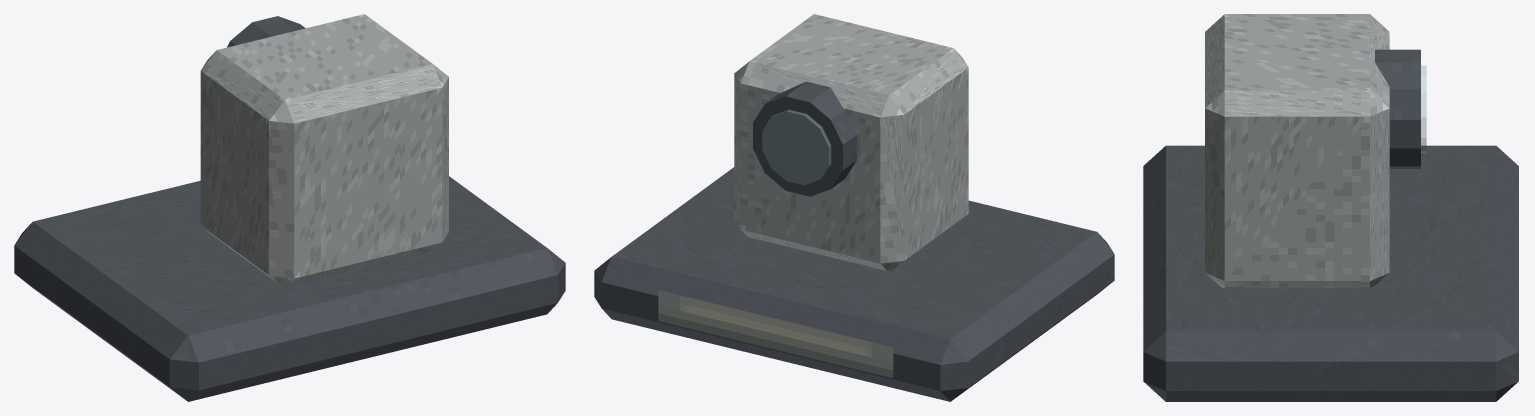
Rendered from melting_point.glb.
3 views of the same model, side by side, from view 1: azimuth 30°, elevation 25°; view 2: azimuth 150°, elevation 25°; view 3: azimuth 270°, elevation 25° (orthographic). The views are drawn at different scales.
Visible parts, largest first — view 1: block_instrument hot plate, block_upright heating block, block_inspection viewport; view 2: block_instrument hot plate, block_upright heating block, block_inspection viewport, block_front control strip, block_magnifying lens; view 3: block_instrument hot plate, block_upright heating block, block_inspection viewport, block_magnifying lens.
Boxes of the visible parts, x1,y1,x2,y2 form: block_instrument hot plate: (14,176,565,401); block_upright heating block: (200,14,448,286); block_inspection viewport: (227,16,305,47); block_instrument hot plate: (594,167,1114,401); block_upright heating block: (734,14,968,270); block_inspection viewport: (753,81,856,196); block_front control strip: (658,290,893,378); block_magnifying lens: (762,109,831,185); block_instrument hot plate: (1143,145,1518,401); block_upright heating block: (1205,14,1389,288); block_inspection viewport: (1375,49,1420,168); block_magnifying lens: (1421,65,1426,153).
Bounding box in the file's own units: 0.2175 × 0.1318 × 0.1692.
Materials: 2 (2 with a texture image).
